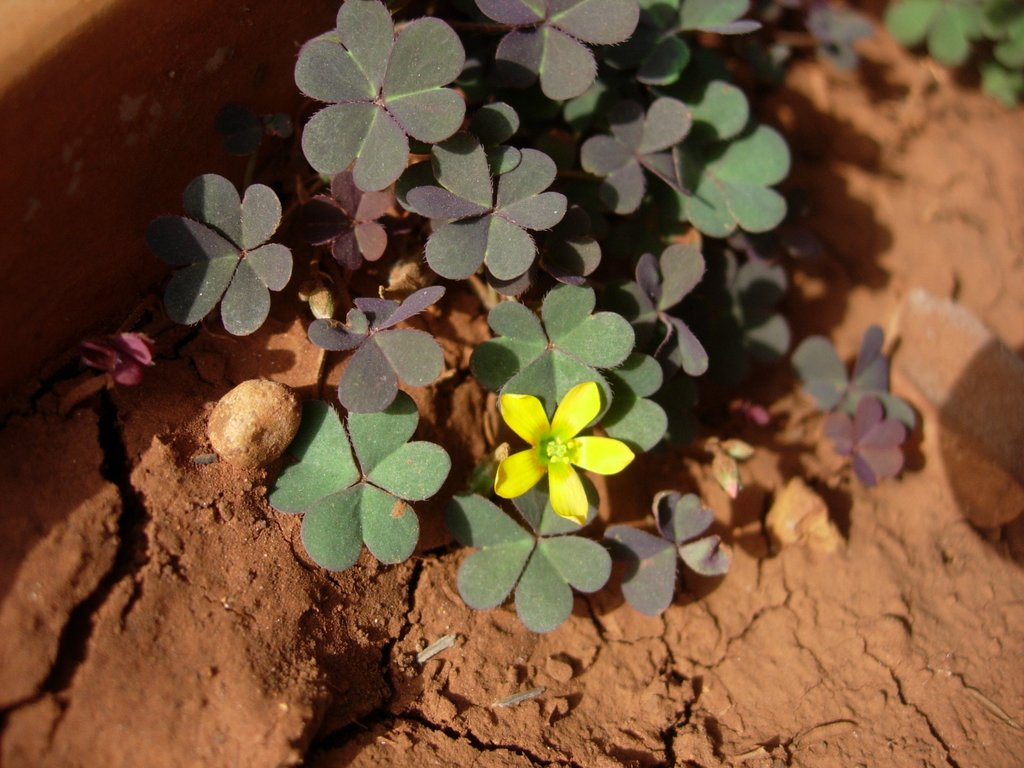oxalis: (217, 31, 946, 602)
